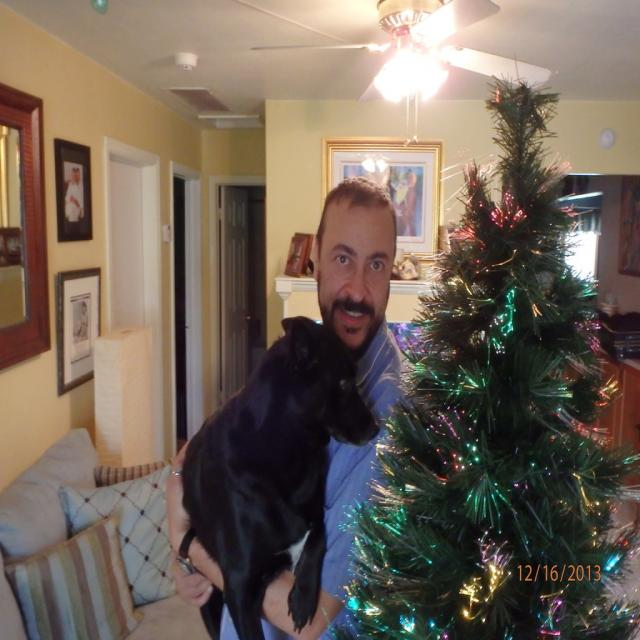Bulb: (249, 9, 547, 175)
